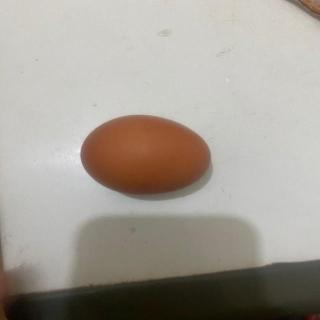Telur: (79, 112, 215, 198)
